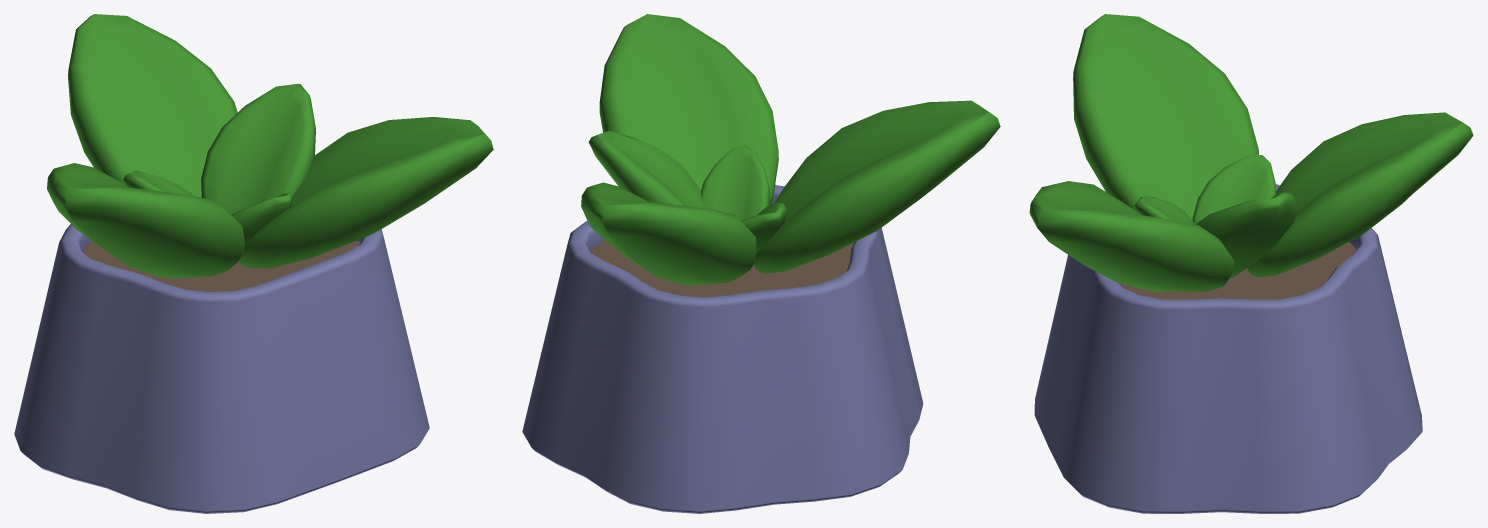
Rendered from Plant_20.glb.
The picture shows the model from 3 angles, left to right: view 1: azimuth 30°, elevation 25°; view 2: azimuth 150°, elevation 25°; view 3: azimuth 270°, elevation 25°; orthographic projection. The views are drawn at different scales.
Visible parts, largest first — view 1: Plant_20; view 2: Plant_20; view 3: Plant_20.
Part boxes in pixels (<box>): Plant_20: <box>14,14,493,513</box>; Plant_20: <box>522,14,1000,513</box>; Plant_20: <box>1029,14,1473,513</box>.
Size of the model in its own units: 0.3568 by 0.2831 by 0.3516.
Materials: 1 (1 with a texture image).
